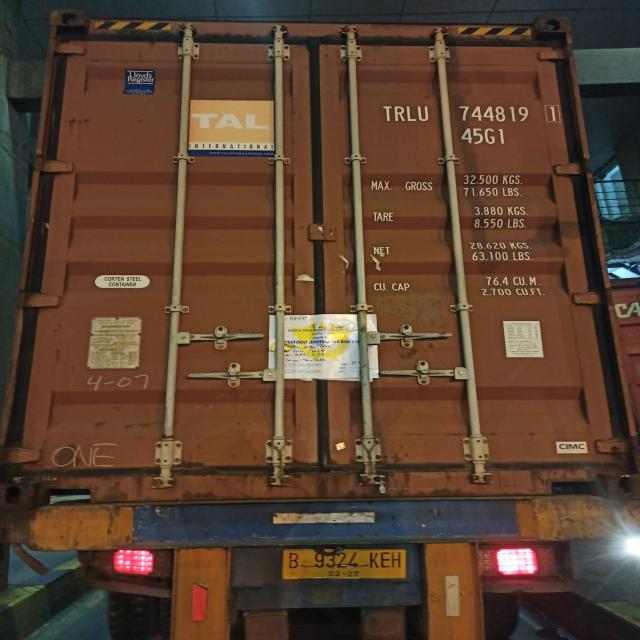seal: (375, 473, 390, 494)
